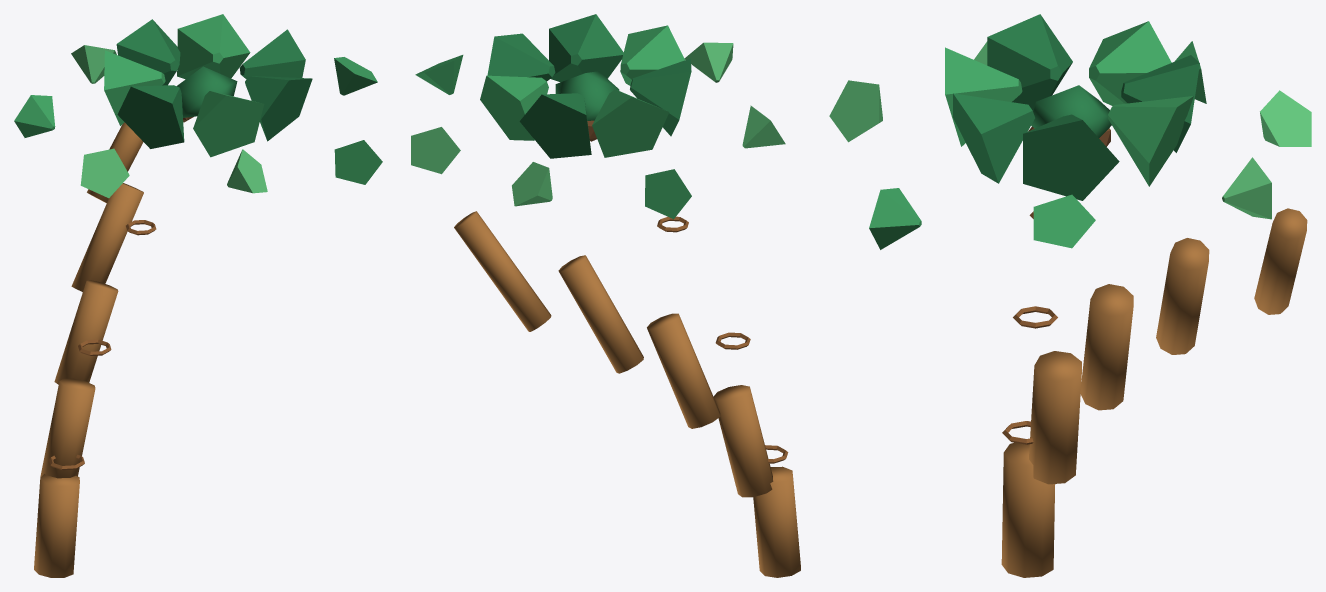
Rendered from hd_palm_b.gltf.
3 views of the same model, side by side, from view 1: azimuth 30°, elevation 25°; view 2: azimuth 150°, elevation 25°; view 3: azimuth 270°, elevation 25° (orthographic). The views are drawn at different scales.
Parts seen in each view (by area): view 1: trunk0, trunk1, fr1a, fr4a, trunk2, fr5a, trunk3, fr6a, fr2a, fr3a, fr0a, fr4b (+7 smaller); view 2: trunk1, trunk2, trunk0, trunk3, trunk4, fr6a, fr3a, fr2a, fr1a, fr4a, fr5a, fr0a (+7 smaller); view 3: trunk1, trunk0, fr0a, trunk2, fr4a, fr6a, trunk3, fr1a, fr3a, trunk4, fr5a, fr2a (+6 smaller).
Boxes of the visible parts, <box> form: trunk0: <box>34,474,79,577</box>; trunk1: <box>40,378,95,478</box>; fr1a: <box>177,14,250,79</box>; fr4a: <box>117,85,184,148</box>; trunk2: <box>54,280,118,384</box>; fr5a: <box>193,91,264,157</box>; trunk3: <box>71,183,143,291</box>; fr6a: <box>245,76,312,141</box>; fr2a: <box>116,19,180,85</box>; fr3a: <box>104,50,165,125</box>; fr0a: <box>239,29,305,79</box>; fr4b: <box>80,148,129,198</box>; trunk1: <box>713,385,773,497</box>; trunk2: <box>647,313,720,428</box>; trunk0: <box>753,466,800,577</box>; trunk3: <box>558,255,643,373</box>; trunk4: <box>454,211,551,331</box>; fr6a: <box>549,14,623,82</box>; fr3a: <box>592,89,669,157</box>; fr2a: <box>519,93,591,158</box>; fr1a: <box>480,75,548,140</box>; fr4a: <box>630,58,691,136</box>; fr5a: <box>620,25,684,85</box>; fr0a: <box>487,33,555,81</box>; trunk1: <box>1029,351,1081,484</box>; trunk0: <box>1001,442,1055,577</box>; fr0a: <box>1023,114,1119,200</box>; trunk2: <box>1080,284,1133,410</box>; fr4a: <box>987,14,1072,111</box>; fr6a: <box>953,93,1034,183</box>; trunk3: <box>1156,238,1209,354</box>; fr1a: <box>1108,96,1193,186</box>; fr3a: <box>1089,21,1171,105</box>; trunk4: <box>1254,208,1307,314</box>; fr5a: <box>945,47,1022,146</box>; fr2a: <box>1121,55,1199,152</box>.
Size of the model in its own units: 3.38 by 4.28 by 3.07.
